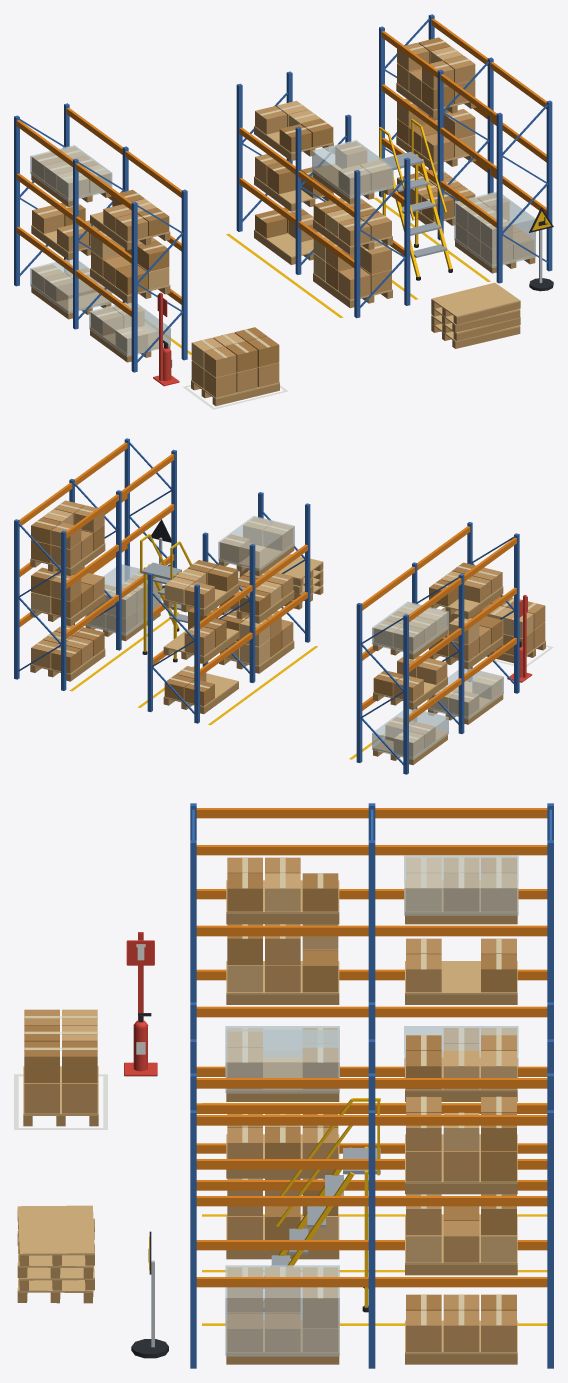
The model's file is einrichtung_hochregal.glb.
3 renders of one model, top to bottom at view 1: azimuth 30°, elevation 25°; view 2: azimuth 150°, elevation 25°; view 3: azimuth 270°, elevation 25°, orthographic. The views are drawn at different scales.
Visible parts, largest first — view 1: einrichtung_hochregal; view 2: einrichtung_hochregal; view 3: einrichtung_hochregal.
Part boxes in pixels (x1,y1,x2,y2): einrichtung_hochregal: [14, 14, 553, 409]; einrichtung_hochregal: [14, 438, 553, 774]; einrichtung_hochregal: [14, 803, 553, 1368].
Bounding box in the file's own units: 7.8 × 3 × 5.74.
